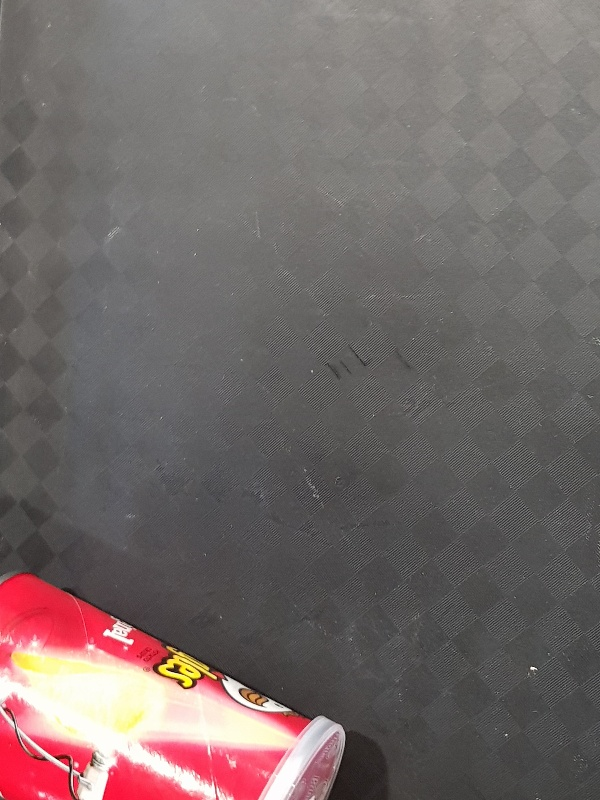Pringles Original: (1, 571, 347, 800)
